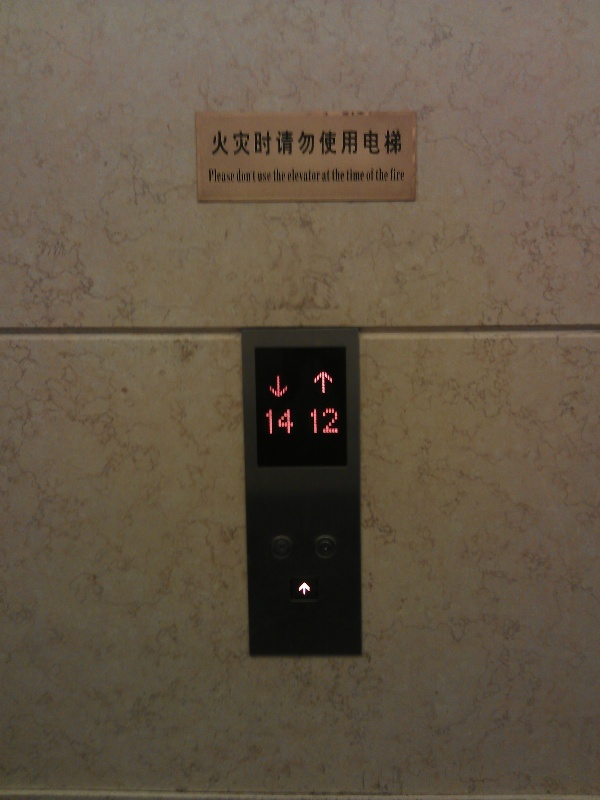text: (321, 406, 336, 436), (273, 409, 288, 437), (225, 129, 240, 156), (241, 129, 256, 156), (257, 129, 272, 156), (273, 129, 288, 156), (289, 129, 304, 156), (305, 129, 320, 156), (321, 129, 336, 156), (337, 129, 352, 156), (353, 129, 368, 156), (369, 129, 384, 156), (385, 129, 400, 156), (212, 129, 224, 156), (311, 406, 320, 436), (209, 168, 224, 184), (273, 167, 288, 183), (305, 168, 321, 183), (241, 168, 256, 183), (289, 168, 304, 183), (322, 169, 336, 183), (258, 171, 272, 184), (353, 168, 365, 183), (225, 168, 236, 184), (266, 409, 272, 437), (289, 409, 295, 437), (390, 167, 400, 182), (337, 168, 345, 183), (376, 168, 384, 182), (346, 168, 352, 183), (369, 168, 375, 182), (401, 129, 404, 156), (331, 168, 336, 183), (337, 406, 339, 436), (401, 167, 405, 182), (385, 168, 389, 182), (237, 168, 240, 183), (366, 168, 368, 182)
